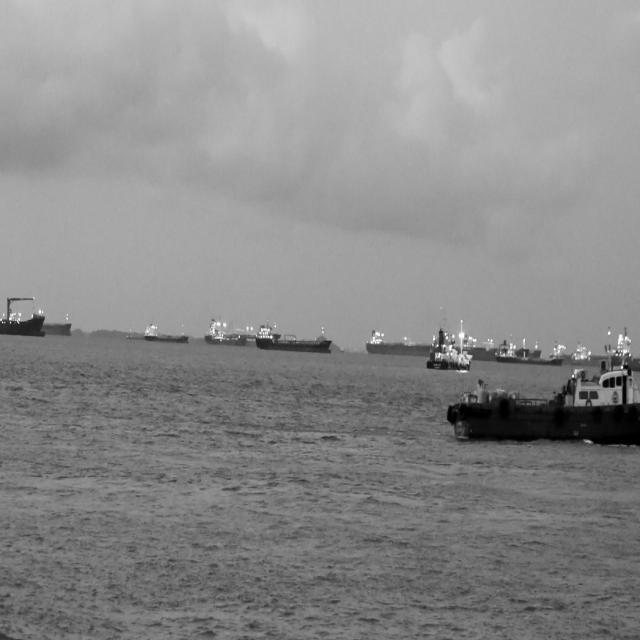ship: (441, 352, 640, 446), (366, 302, 542, 360), (256, 318, 332, 352), (425, 320, 473, 371), (495, 336, 567, 365), (143, 302, 190, 346), (0, 295, 46, 337), (204, 315, 258, 348), (609, 325, 640, 372), (568, 338, 610, 365), (43, 312, 72, 337), (124, 331, 143, 342)
